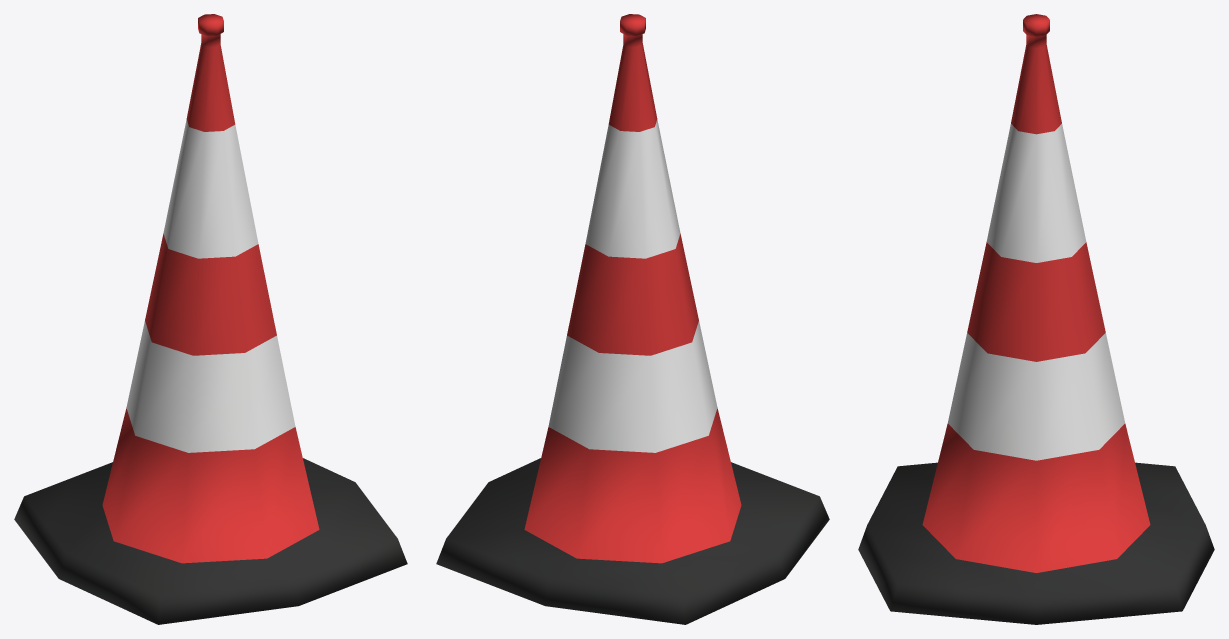
The model's file is Pion.fbx.
3 views of the same model, side by side, from view 1: azimuth 30°, elevation 25°; view 2: azimuth 150°, elevation 25°; view 3: azimuth 270°, elevation 25° (orthographic).
Parts seen in each view (by area): view 1: Pion; view 2: Pion; view 3: Pion.
Boxes of the visible parts, x1,y1,x2,y2 form: Pion: [14, 14, 407, 624]; Pion: [436, 14, 829, 624]; Pion: [858, 14, 1214, 624].
Bounding box in the file's own units: 51.45 × 84.38 × 51.45.
